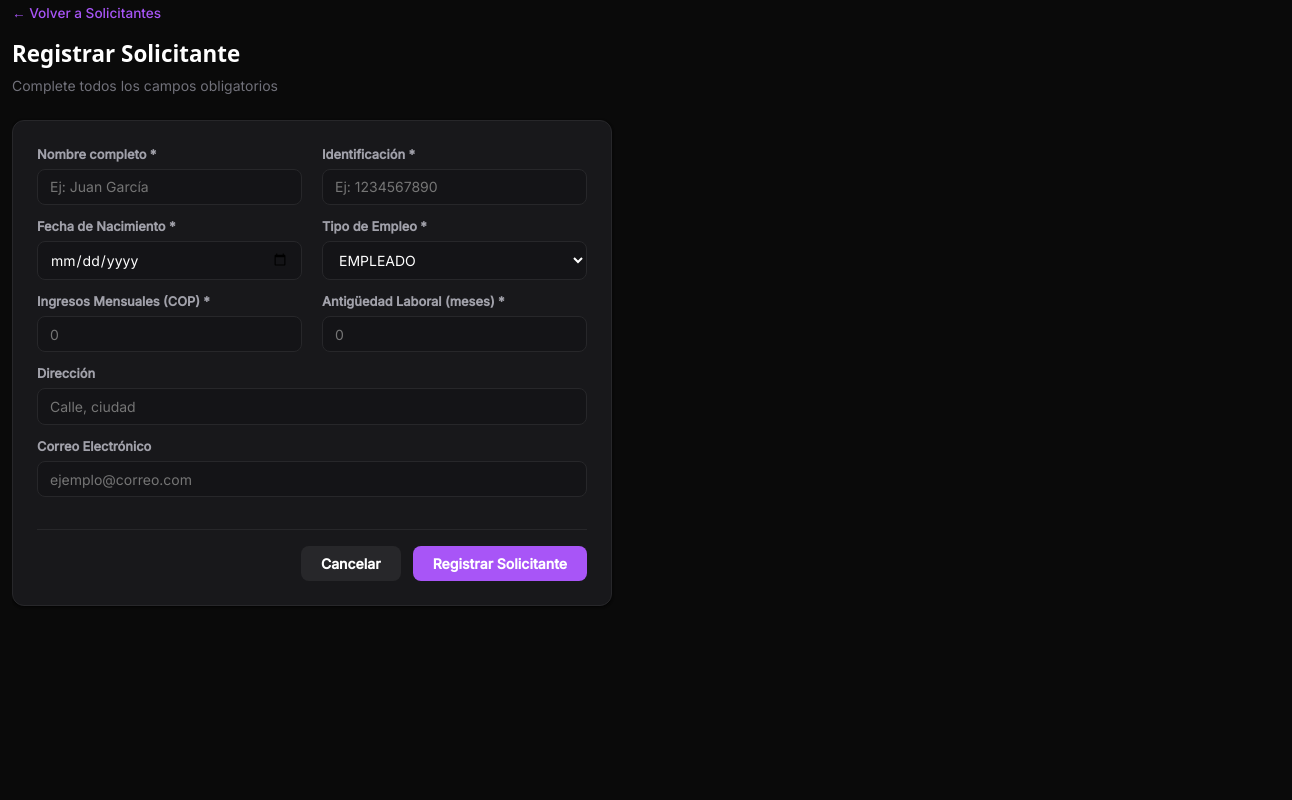
RegisterApplicant — submit behavior › displays error message when registerApplicant rejects
In the field with placeholder "Ej: Juan García": (170, 187) [37, 169, 302, 205], type "Carlos Lopez"
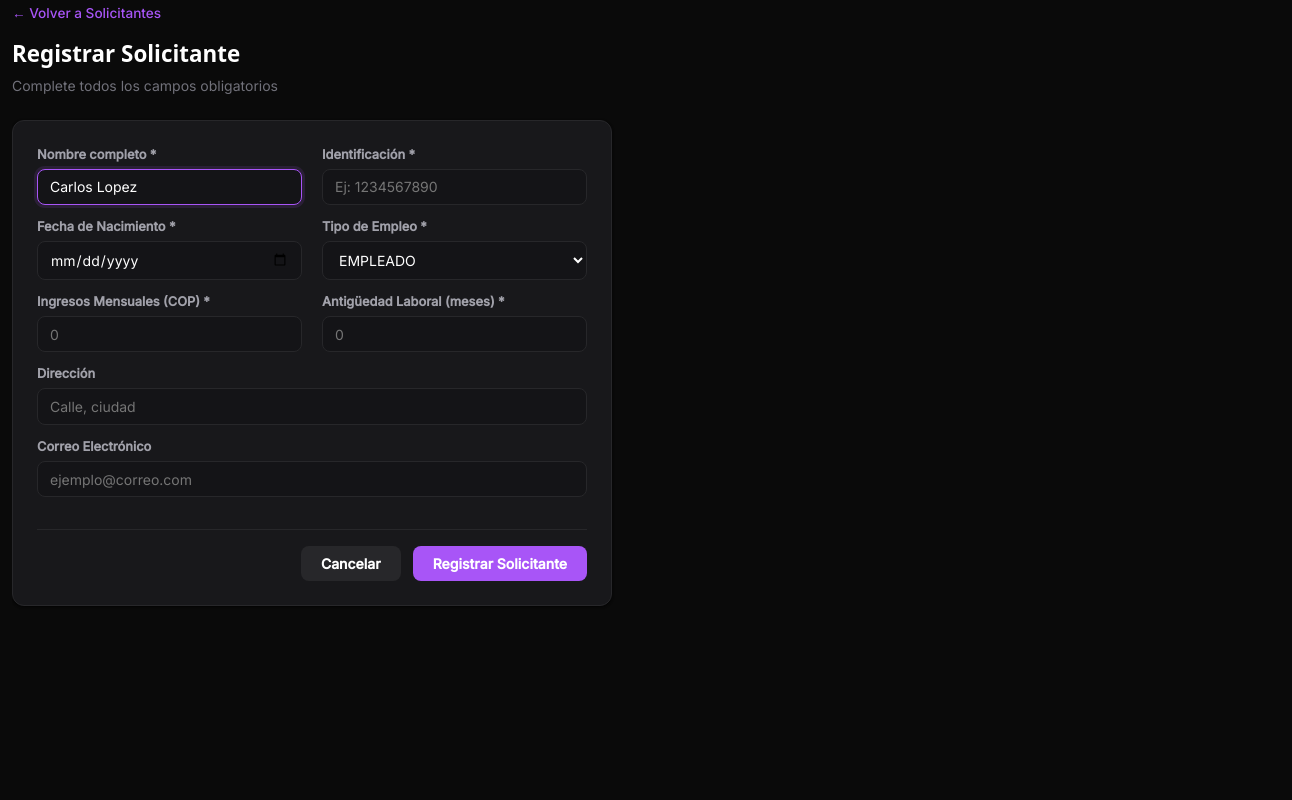
In the field with placeholder "Ej: 1234567890": (454, 187) [322, 169, 587, 205], type "1122334455"
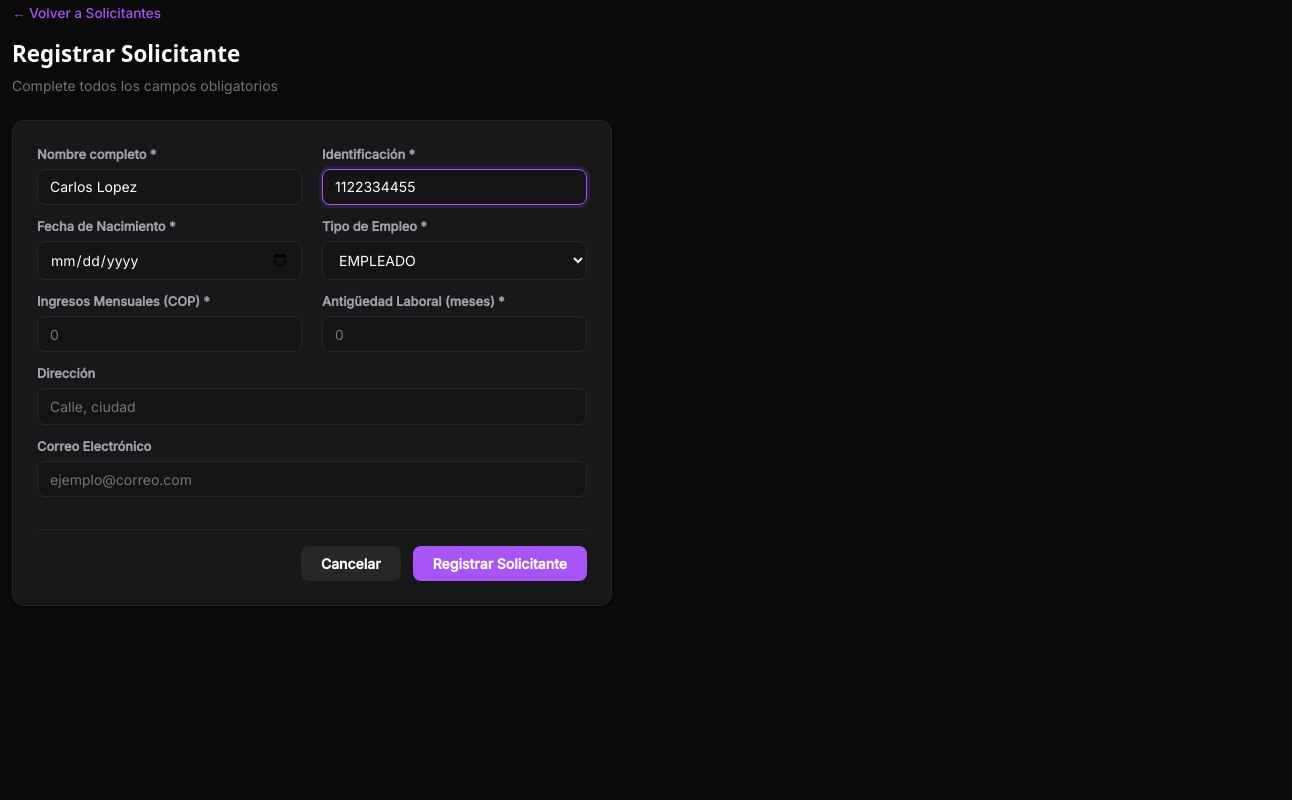
In the date field: (170, 260) [37, 241, 302, 280], type "1990-05-15"
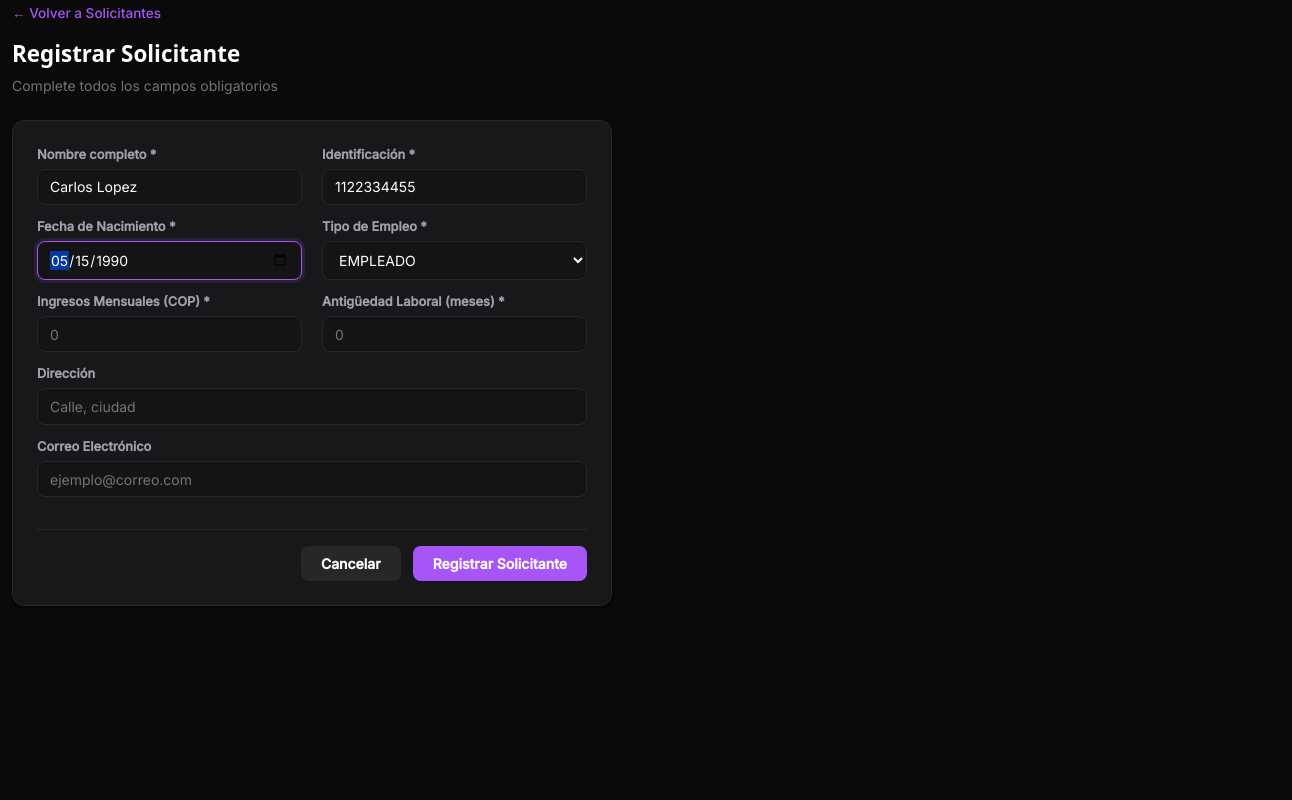
In the number field with placeholder "0" below "Ingresos Mensuales (COP) *": (170, 334) [37, 316, 302, 352], type "2500000"
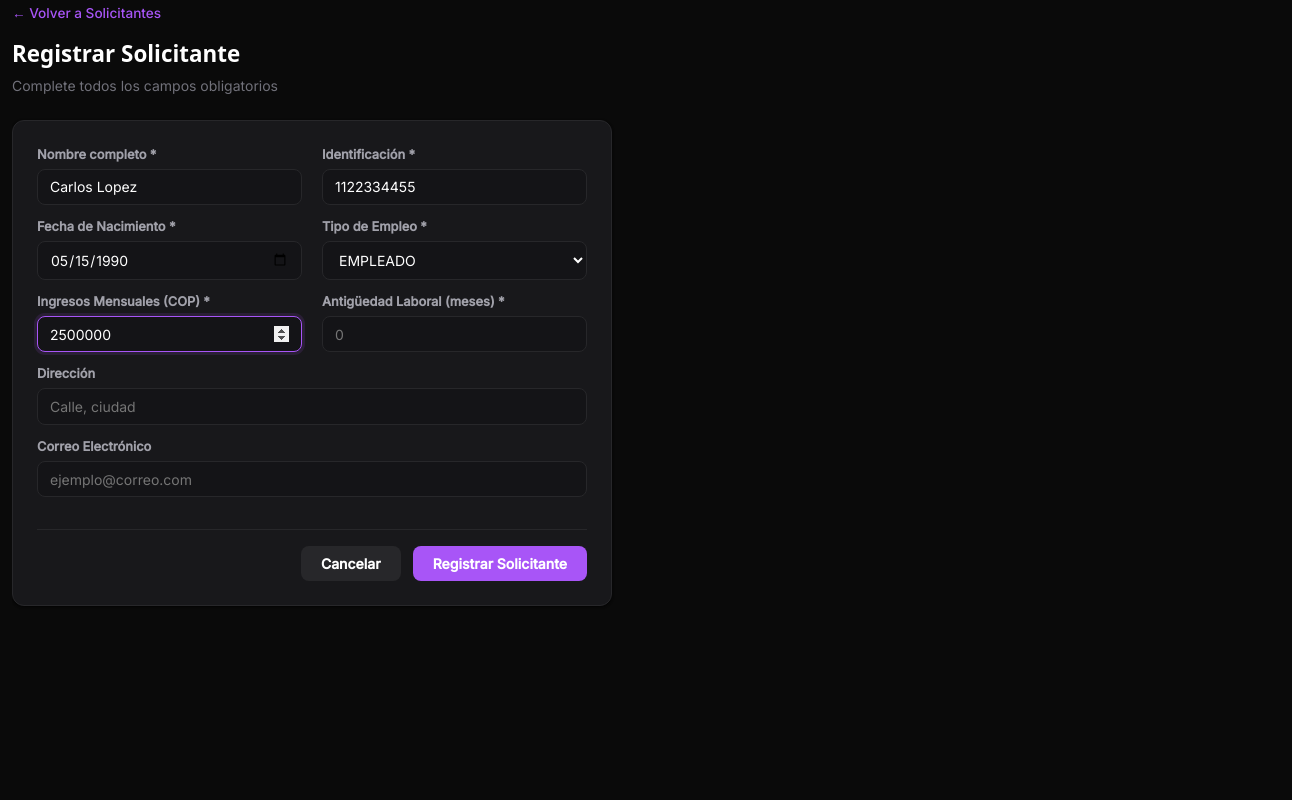
In the number field with placeholder "0": (454, 334) [322, 316, 587, 352], type "36"
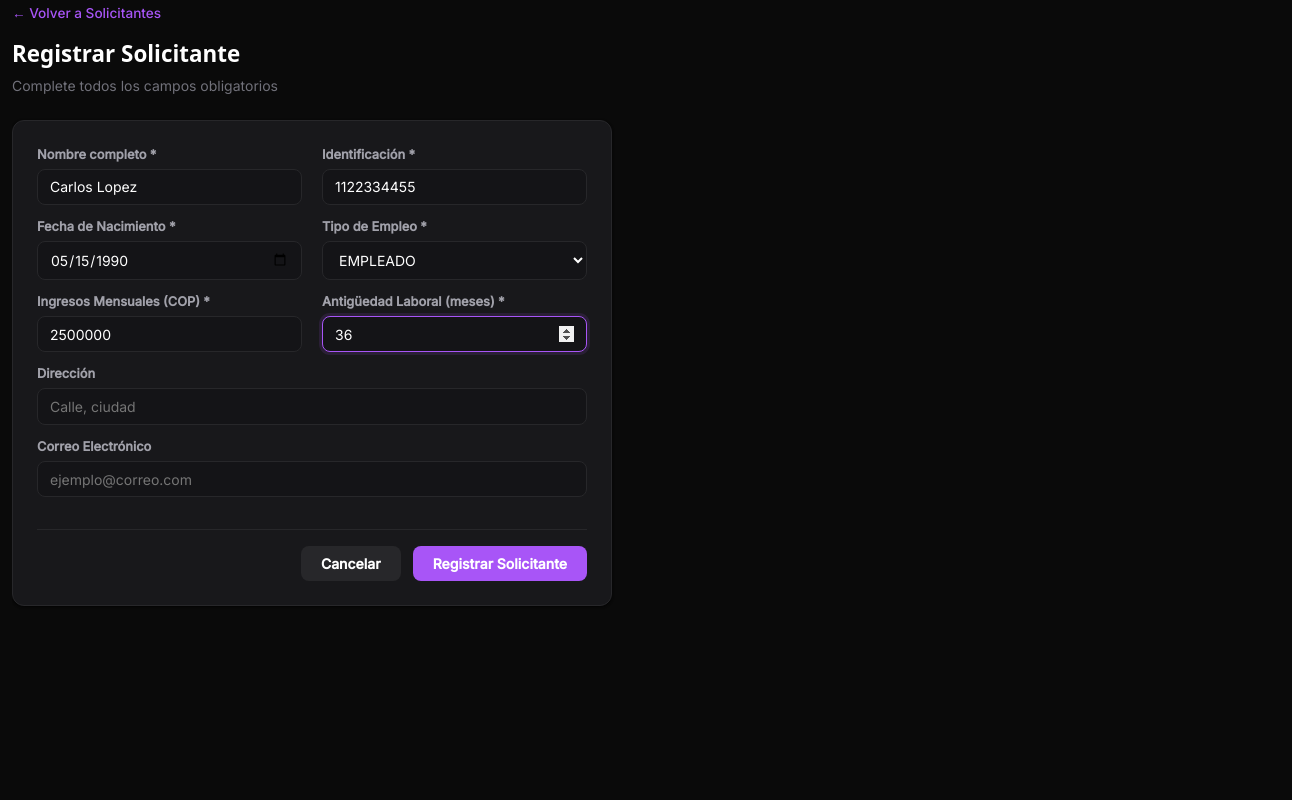
Click the button "Registrar Solicitante": (500, 564) [413, 546, 587, 581]
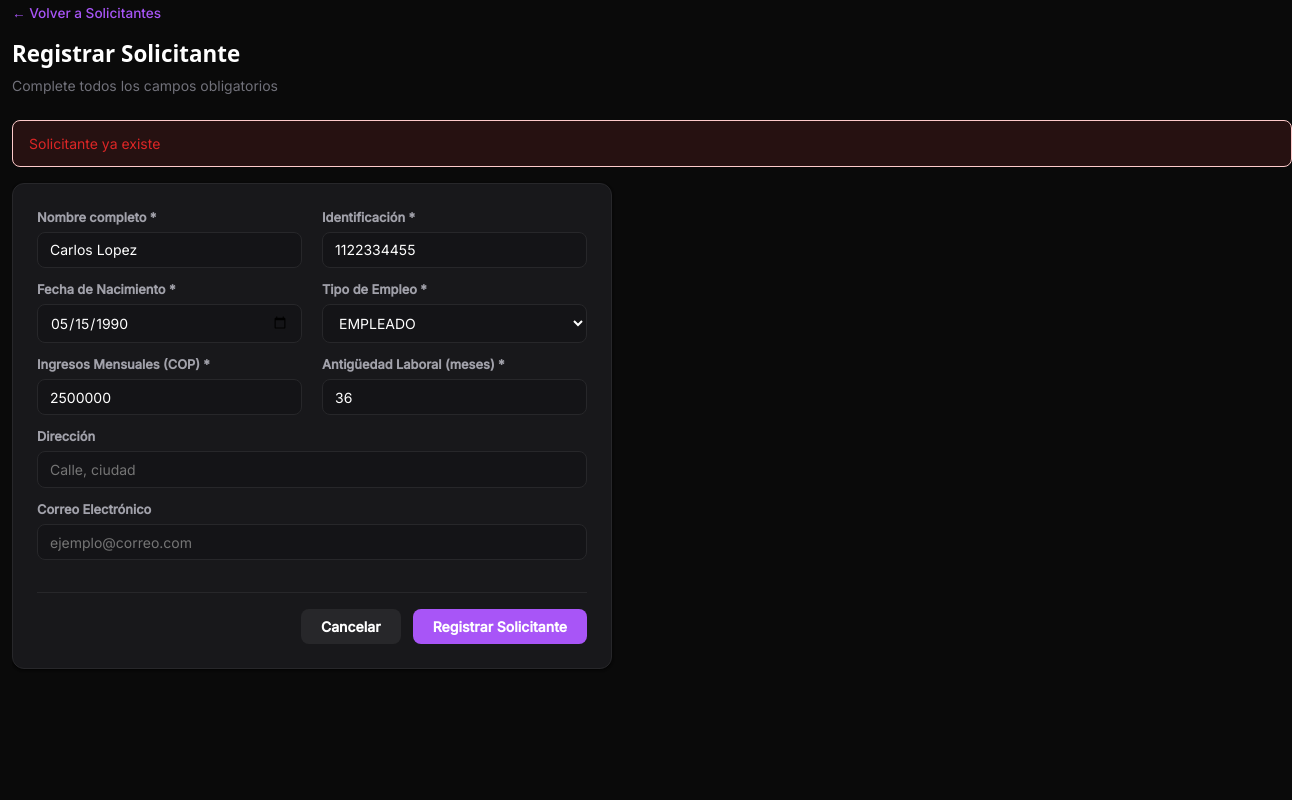
expect the text "Solicitante ya existe" is shown: met, box [12, 120, 1291, 167]
